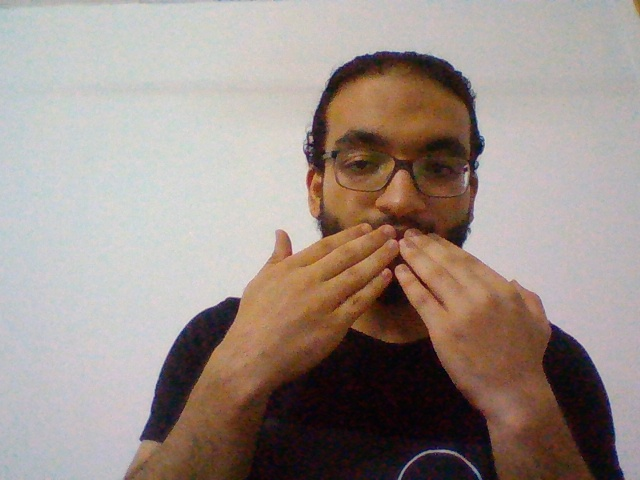Thanks: (197, 218, 573, 424)
